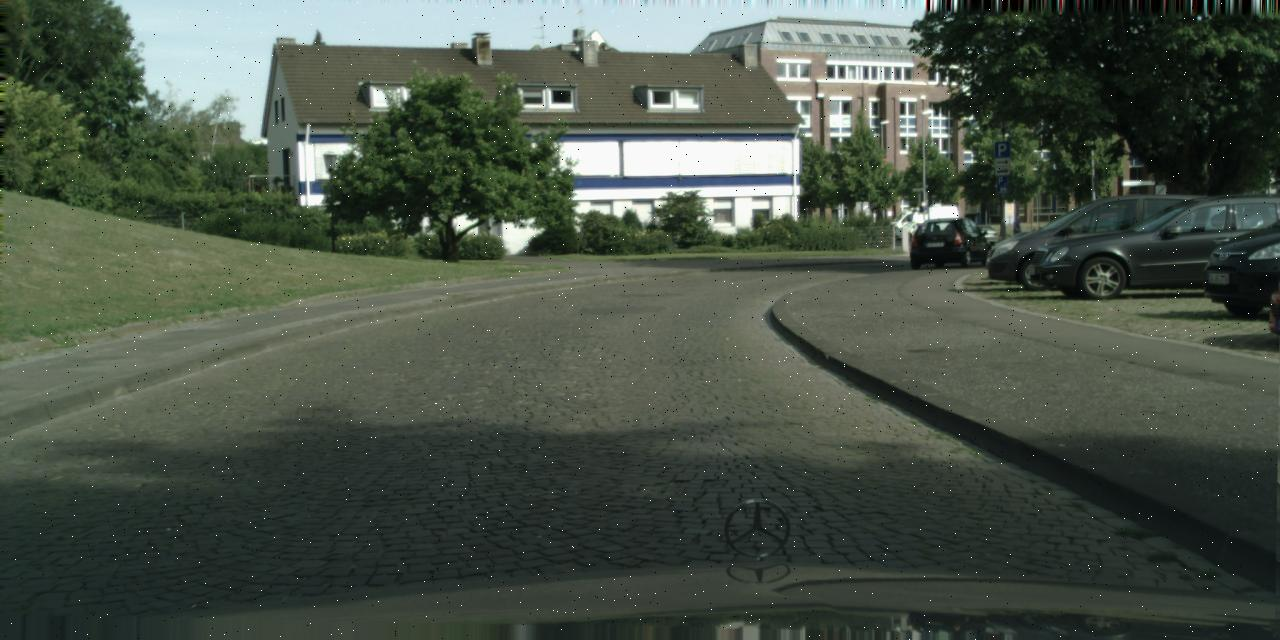ped: (1010, 214, 1024, 248)
